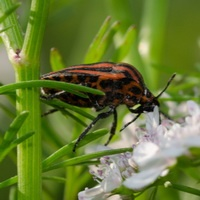insect: (41, 62, 158, 151)
